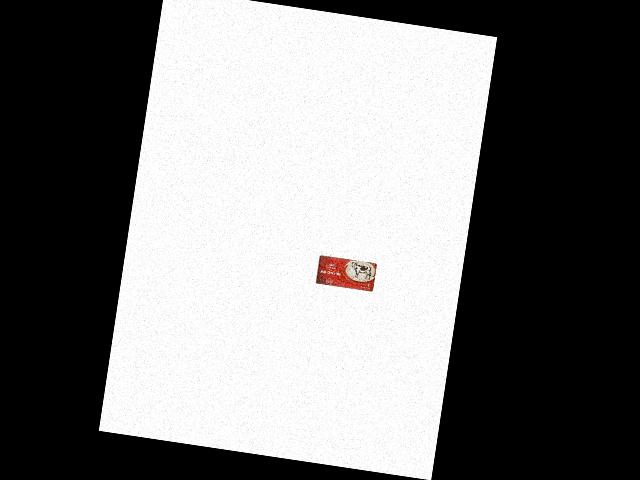chocolate: (313, 254, 376, 293)
